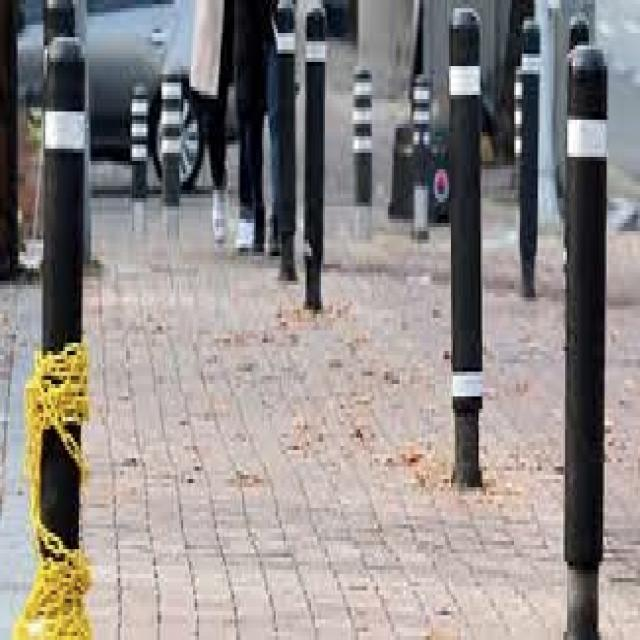bollard: (22, 35, 90, 640), (558, 38, 614, 639), (444, 0, 485, 506), (508, 10, 545, 309), (42, 0, 78, 306), (562, 11, 592, 350), (268, 2, 297, 290), (304, 4, 329, 320), (404, 64, 437, 255), (160, 64, 183, 255), (128, 75, 152, 241), (353, 61, 376, 211)
